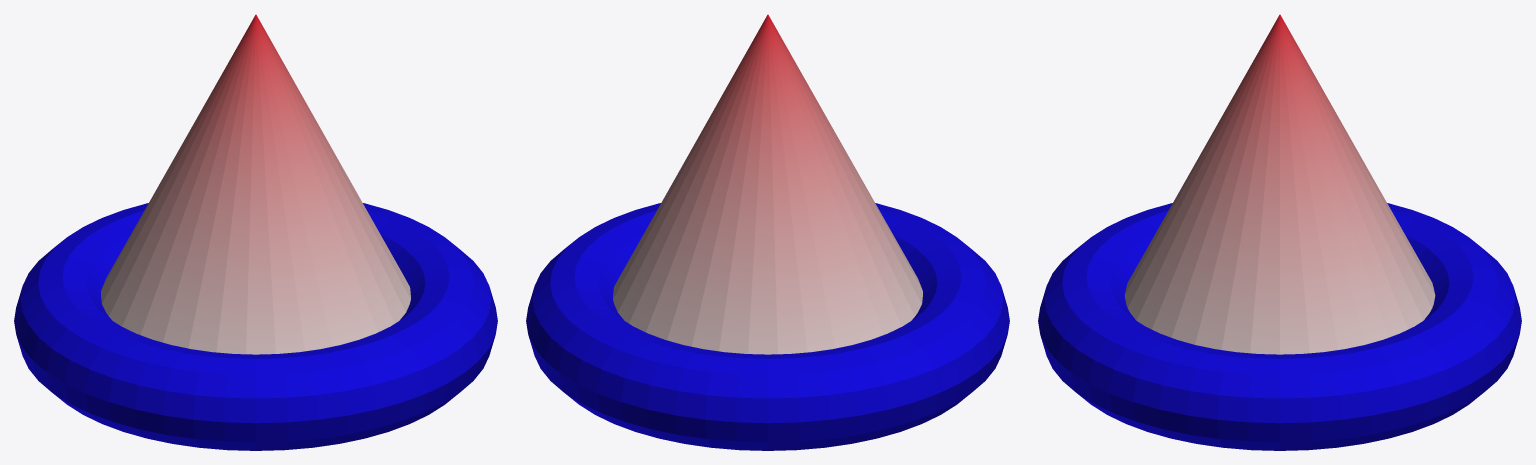
Rendered from demo.dae.
3 views of the same model, side by side, from view 1: azimuth 30°, elevation 25°; view 2: azimuth 150°, elevation 25°; view 3: azimuth 270°, elevation 25° (orthographic).
Parts seen in each view (by area): view 1: Torus, Cone; view 2: Torus, Cone; view 3: Torus, Cone.
Boxes of the visible parts, <box> form: Torus: <box>14,203,497,450</box>; Cone: <box>101,14,410,354</box>; Torus: <box>526,203,1009,450</box>; Cone: <box>613,14,922,354</box>; Torus: <box>1038,203,1521,450</box>; Cone: <box>1124,14,1435,354</box>.
Size of the model in its own units: 2.5 by 2.5 by 2.
